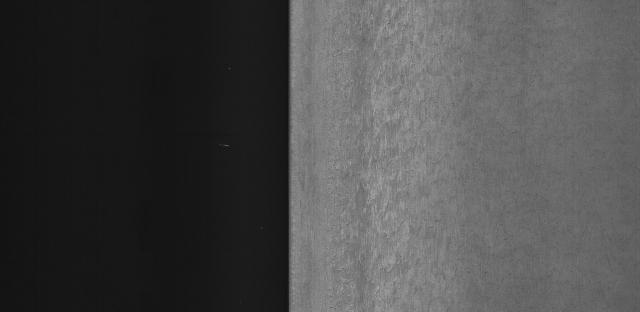silk_spot: (334, 26, 431, 305)
